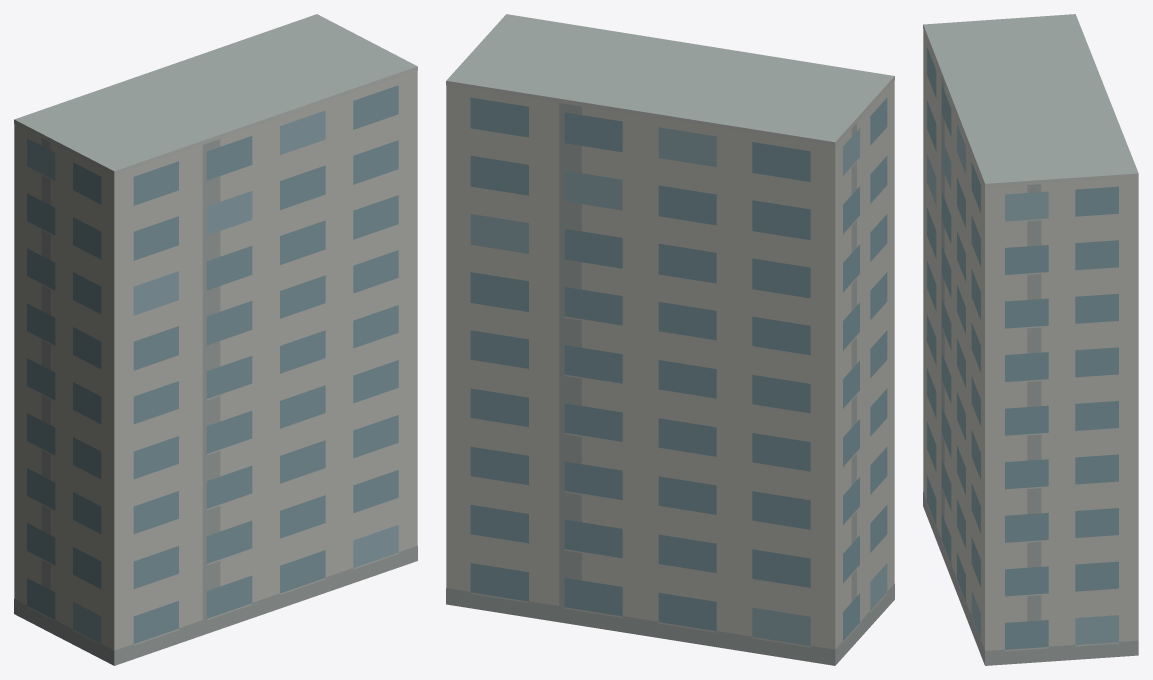
The model's file is survey-upis-32803485.glb.
The picture shows the model from 3 angles, left to right: view 1: azimuth 30°, elevation 25°; view 2: azimuth 150°, elevation 25°; view 3: azimuth 270°, elevation 25°; orthographic projection. The views are drawn at different scales.
Parts seen in each view (by area): view 1: survey-upis-32803485.tmp; view 2: survey-upis-32803485.tmp; view 3: survey-upis-32803485.tmp.
Part boxes in pixels (x1,y1,x2,y2): survey-upis-32803485.tmp: (14,14,417,665); survey-upis-32803485.tmp: (446,14,894,665); survey-upis-32803485.tmp: (923,14,1138,665).
Bounding box in the file's own units: 21.66 × 28.65 × 11.62.
